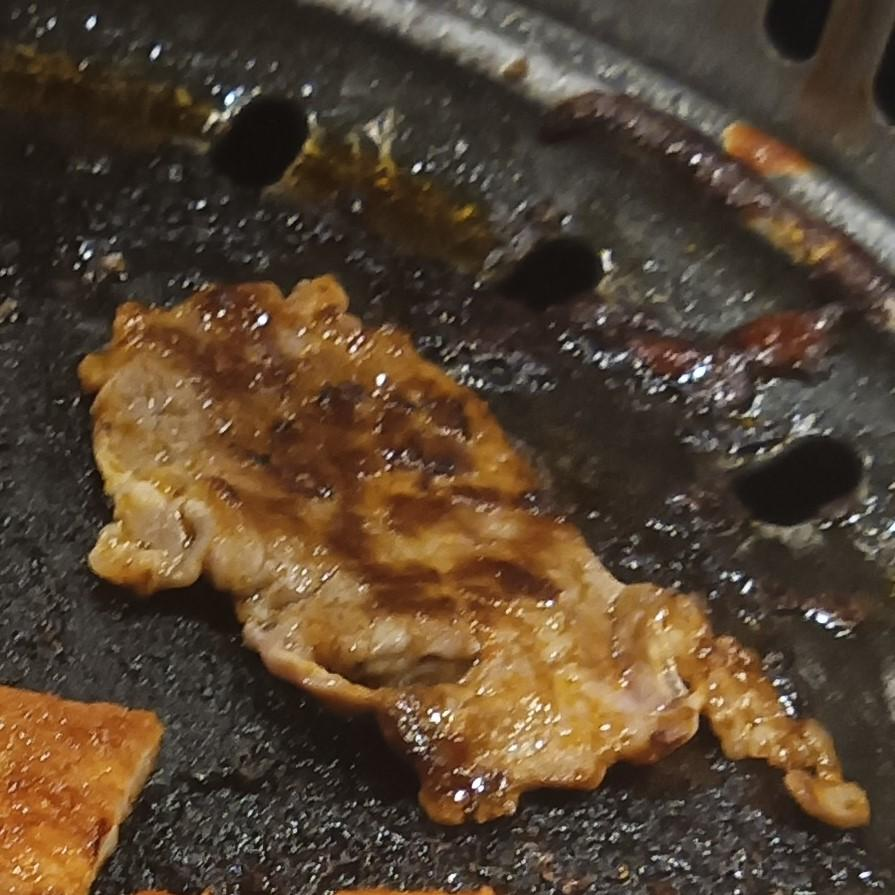Overcooked: (76, 279, 862, 829)
